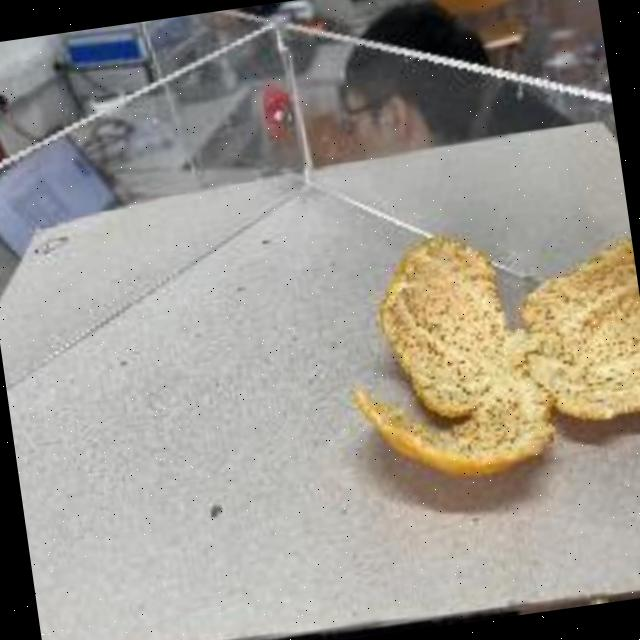orange-peel: (326, 201, 640, 498)
